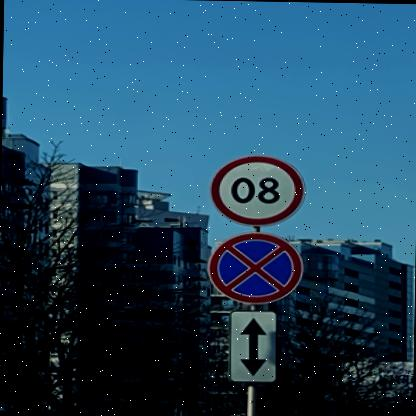speedlimit: (212, 152, 308, 224)
